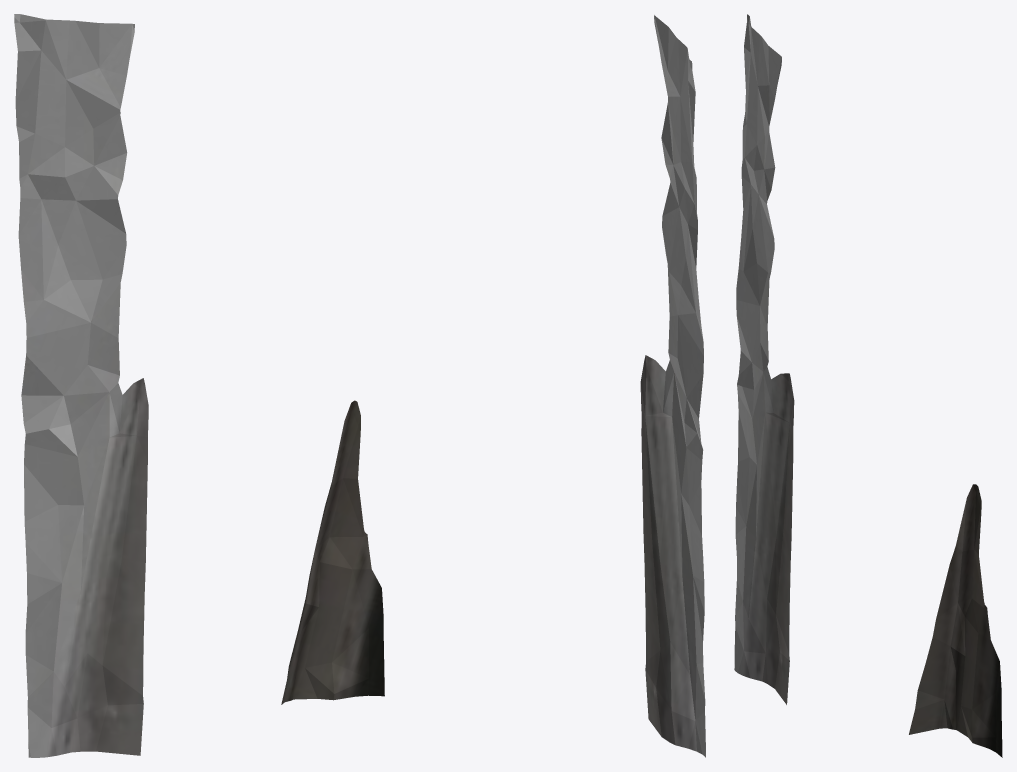
3 renders of one model, left to right at view 1: azimuth 30°, elevation 25°; view 2: azimuth 150°, elevation 25°; view 3: azimuth 330°, elevation 25°, orthographic. The views are drawn at different scales.
Bounding box in the file's own units: 0.3946 × 0.8373 × 0.0842.
1 material, 1 textured.
